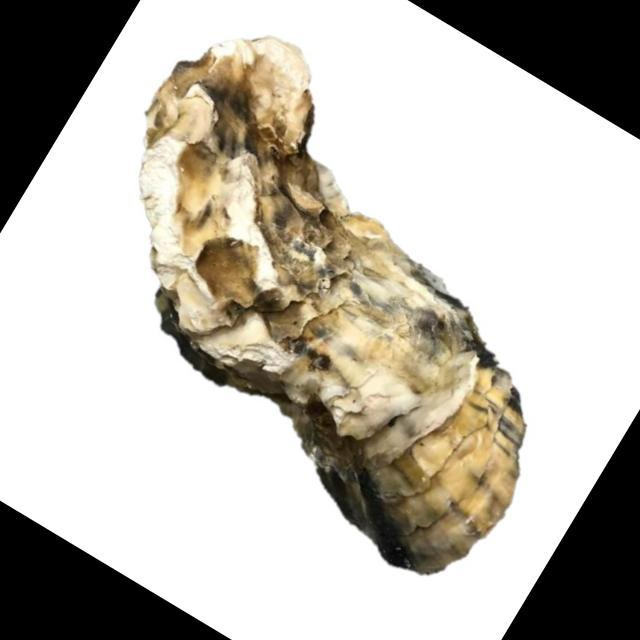Oyster- Indeterminate: (137, 36, 527, 578)
